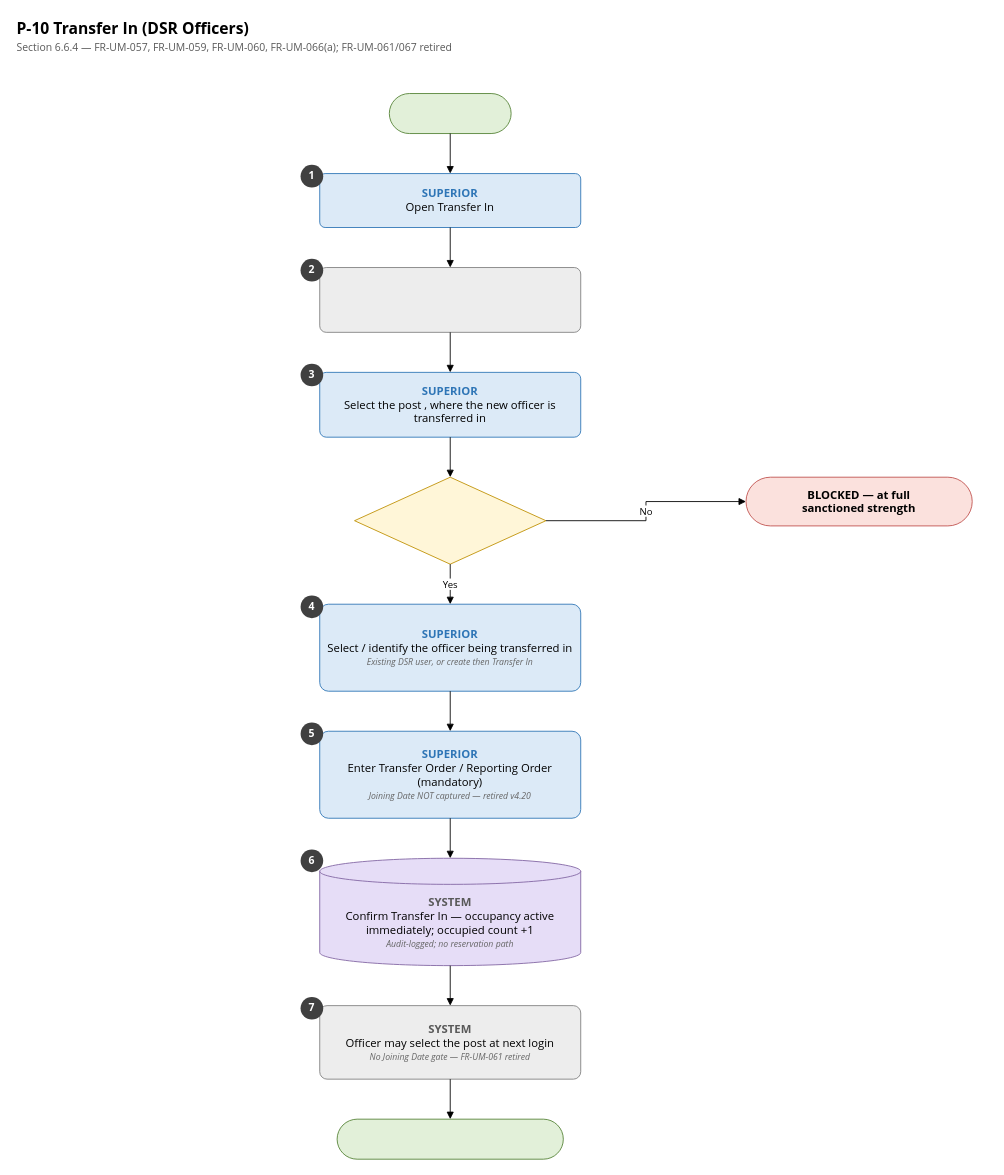
Some shapes in this 1004 by 1175 pixel diagram are drawn without their labels. Here are the shapes that lost their labels. From the top down, the box of each, then its label:
(388, 93, 511, 134): START
(319, 267, 581, 332): SYSTEM List offices in his/her jurisdictions
(354, 476, 546, 564): Target post has available capacity?
(336, 1118, 563, 1159): OCCUPANCY ACTIVE
